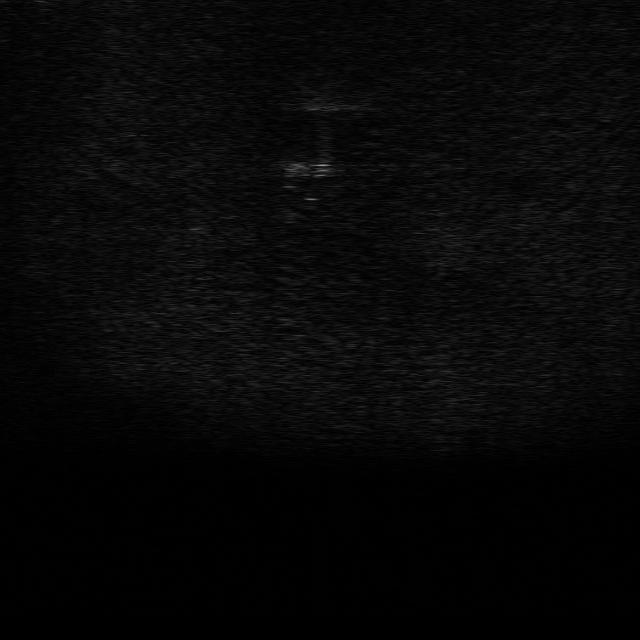plane: (268, 151, 354, 184)
